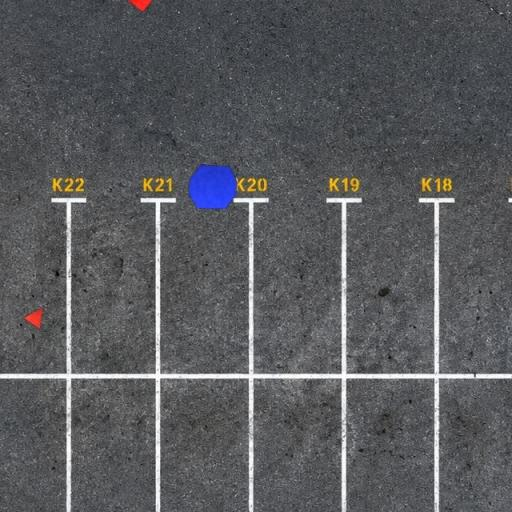RED_SQUARE: (122, 0, 160, 13)
